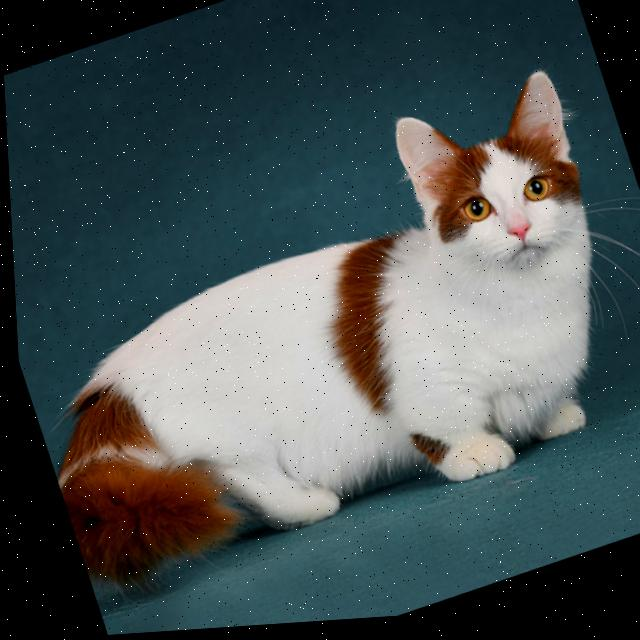Munchkin: (4, 59, 640, 619)
